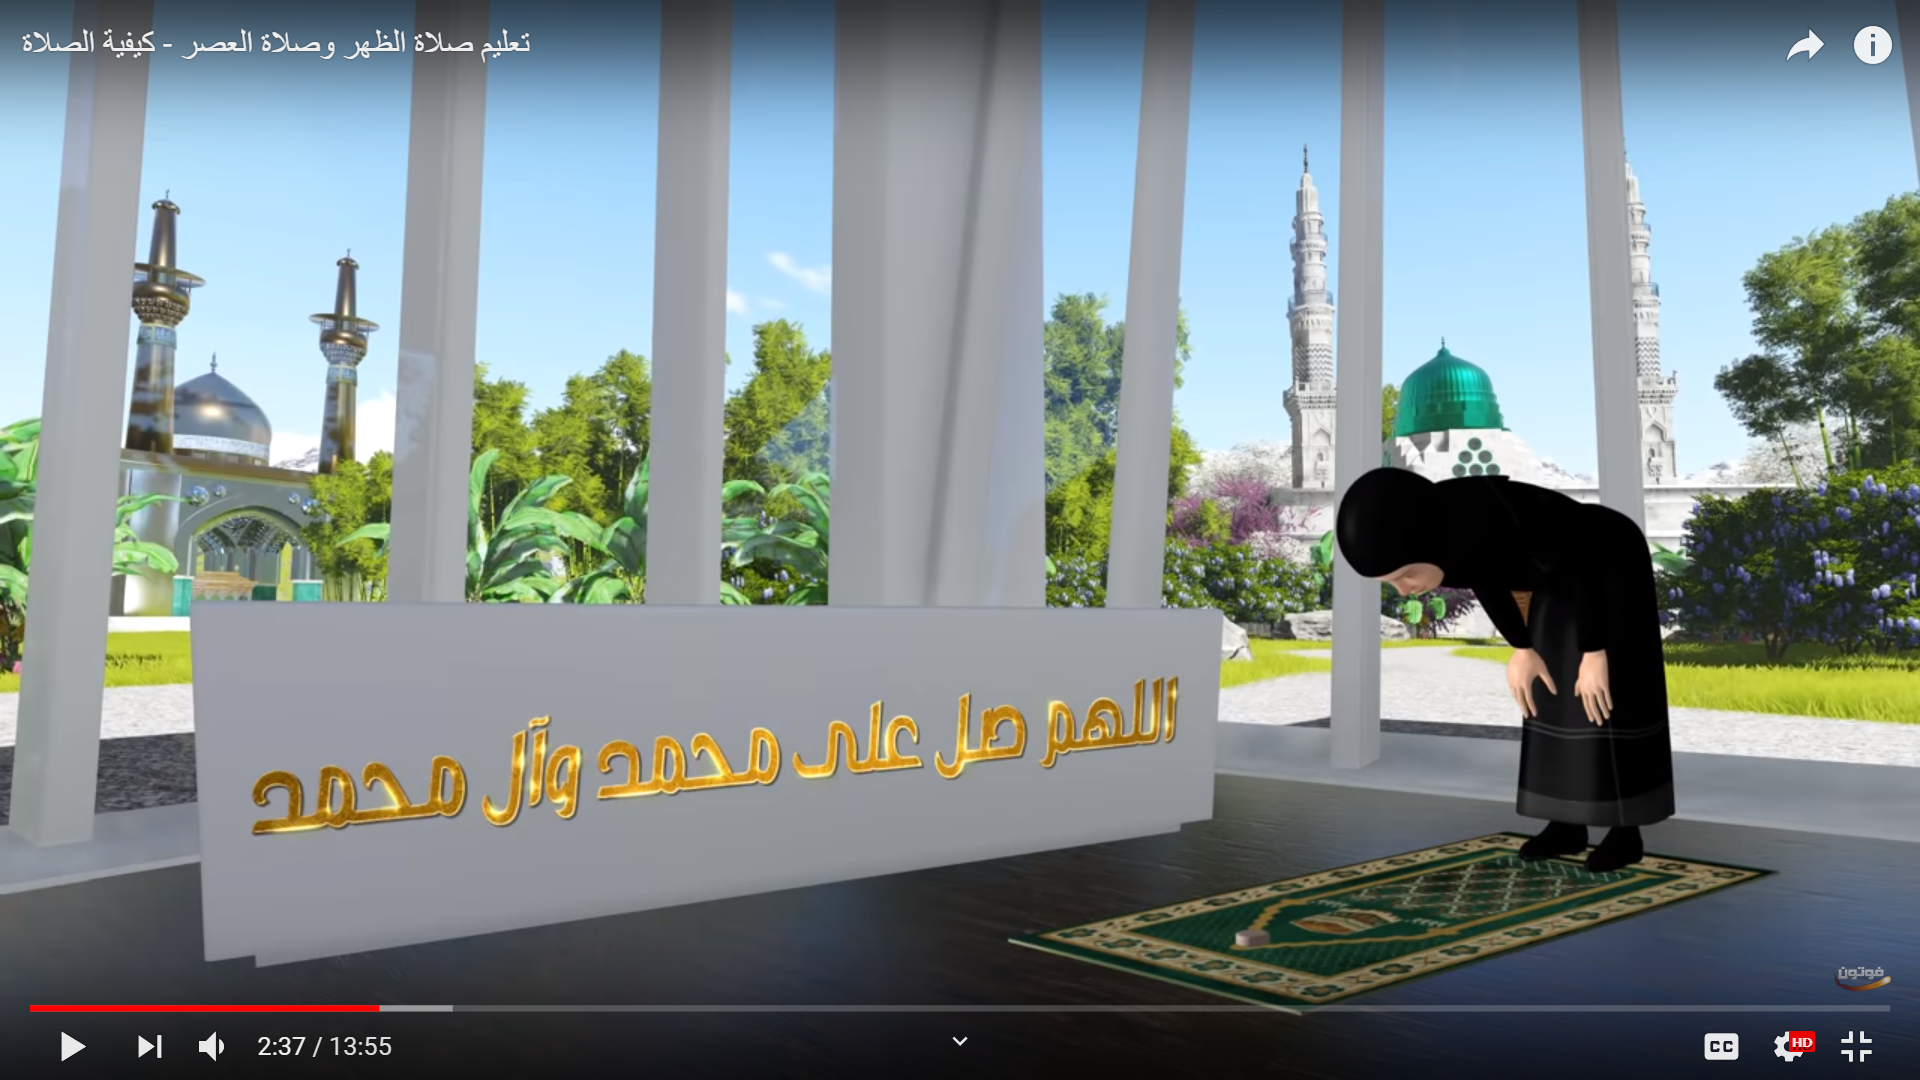ruku: (920, 318, 1903, 982)
